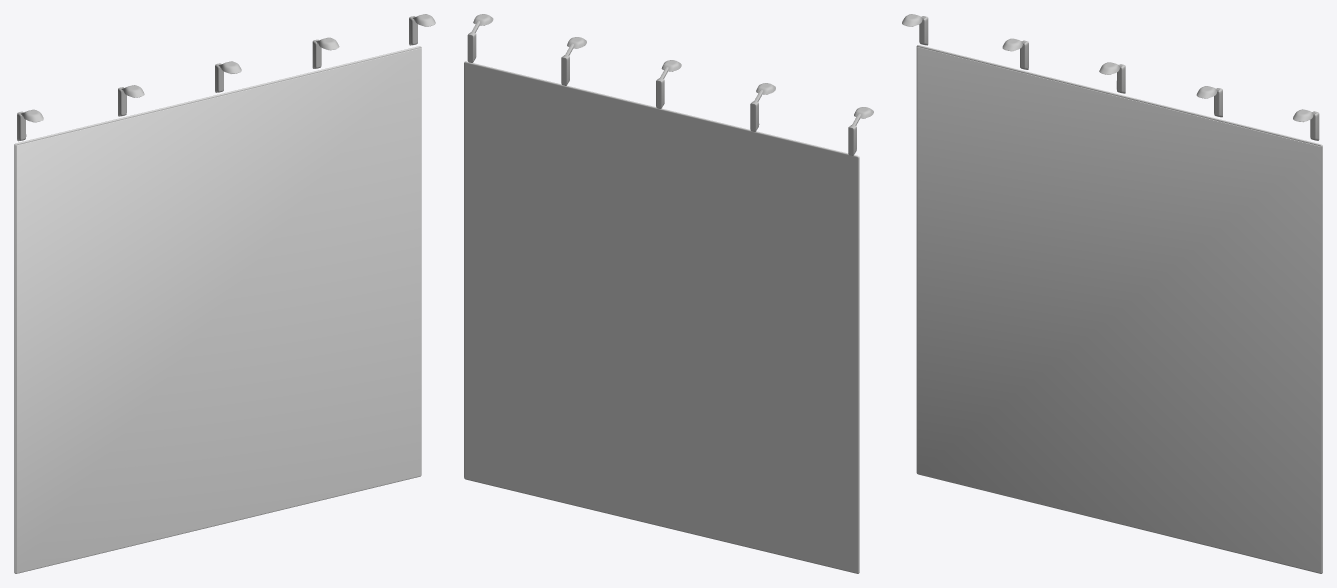
Rendered from Modern_City_Skraper_Billboard.fbx.
The picture shows the model from 3 angles, left to right: view 1: azimuth 30°, elevation 25°; view 2: azimuth 150°, elevation 25°; view 3: azimuth 330°, elevation 25°; orthographic projection. The views are drawn at different scales.
Parts seen in each view (by area): view 1: Modern_City_Skraper_Billboard_Ad001, Modern_City_Skraper_Billboard_AdBacker, Modern_City_Skraper_Billboard_LightHolder; view 2: Modern_City_Skraper_Billboard_AdBacker, Modern_City_Skraper_Billboard_LightHolder; view 3: Modern_City_Skraper_Billboard_Ad001, Modern_City_Skraper_Billboard_AdBacker, Modern_City_Skraper_Billboard_LightHolder.
Boxes of the visible parts, box(x1,y1,x2,y2) form: Modern_City_Skraper_Billboard_Ad001: box(16, 48, 421, 572); Modern_City_Skraper_Billboard_AdBacker: box(14, 46, 421, 573); Modern_City_Skraper_Billboard_LightHolder: box(17, 14, 435, 141); Modern_City_Skraper_Billboard_AdBacker: box(464, 61, 859, 573); Modern_City_Skraper_Billboard_LightHolder: box(467, 14, 873, 155); Modern_City_Skraper_Billboard_Ad001: box(917, 47, 1321, 572); Modern_City_Skraper_Billboard_AdBacker: box(916, 45, 1322, 573); Modern_City_Skraper_Billboard_LightHolder: box(902, 14, 1319, 140).
Size of the model in its own units: 30.27 by 33.27 by 2.49.
4 materials, 2 textured.
